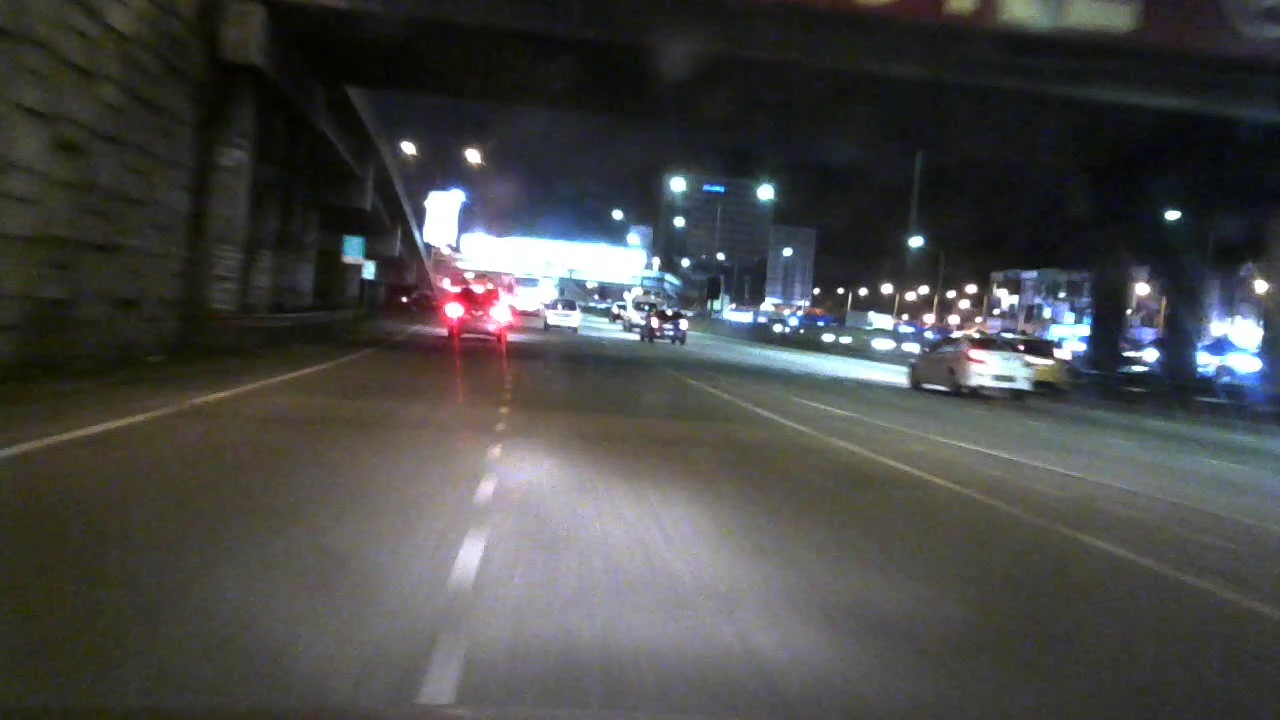Car: (903, 334, 1030, 397), (440, 287, 517, 348), (1005, 332, 1082, 392), (637, 309, 699, 347), (542, 295, 592, 336), (605, 299, 625, 324)
